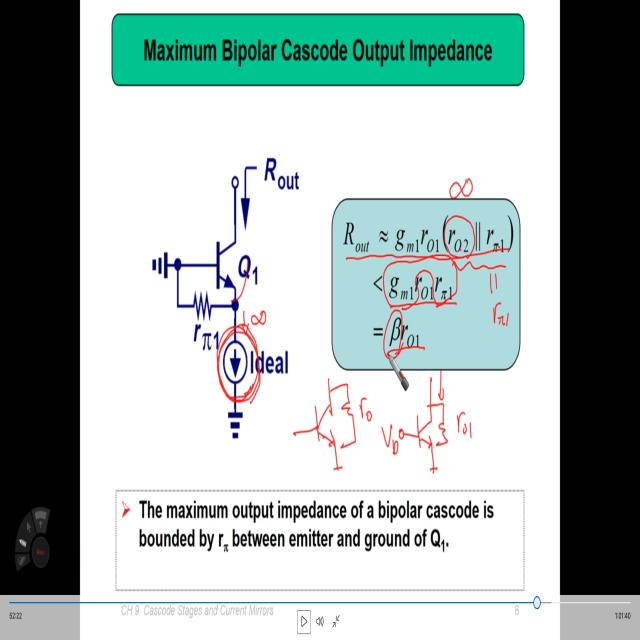panseo: (284, 364, 480, 490)
